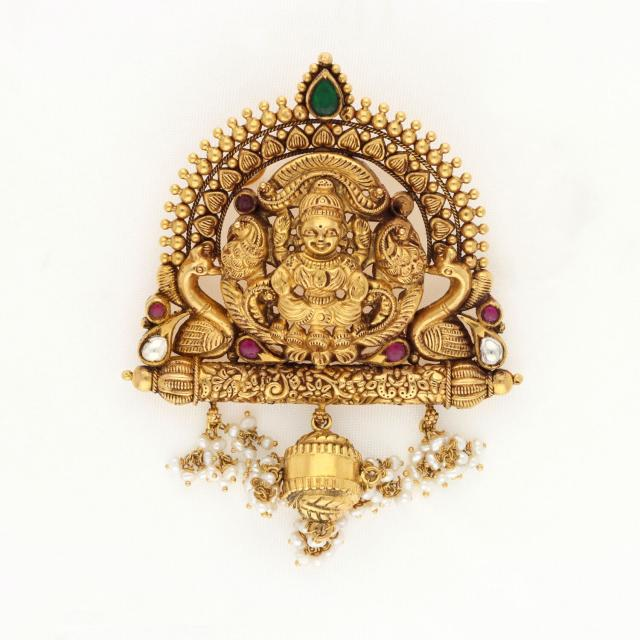missing gem: (391, 192, 414, 217)
